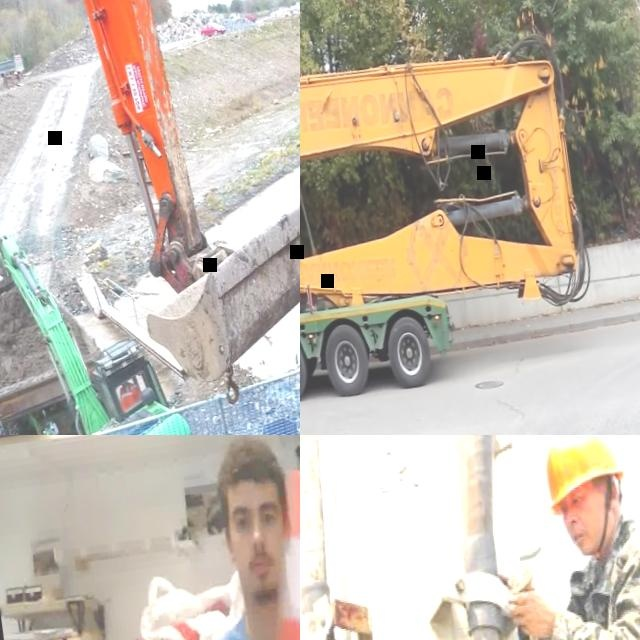Hardhat: (535, 435, 634, 515)
NO-Hardhat: (217, 436, 285, 496)
NO-Mask: (569, 507, 611, 557), (241, 554, 284, 602)
NO-Safety Vest: (563, 528, 640, 640)
Person: (484, 435, 640, 640), (153, 435, 300, 640), (119, 378, 142, 410)
Safety Cone: (209, 456, 300, 640)
Safety Vest: (120, 382, 140, 408)
machinery: (300, 7, 599, 366), (66, 0, 300, 435), (0, 212, 203, 435), (0, 49, 27, 88), (229, 7, 256, 25)
vehicle: (200, 19, 227, 38)
